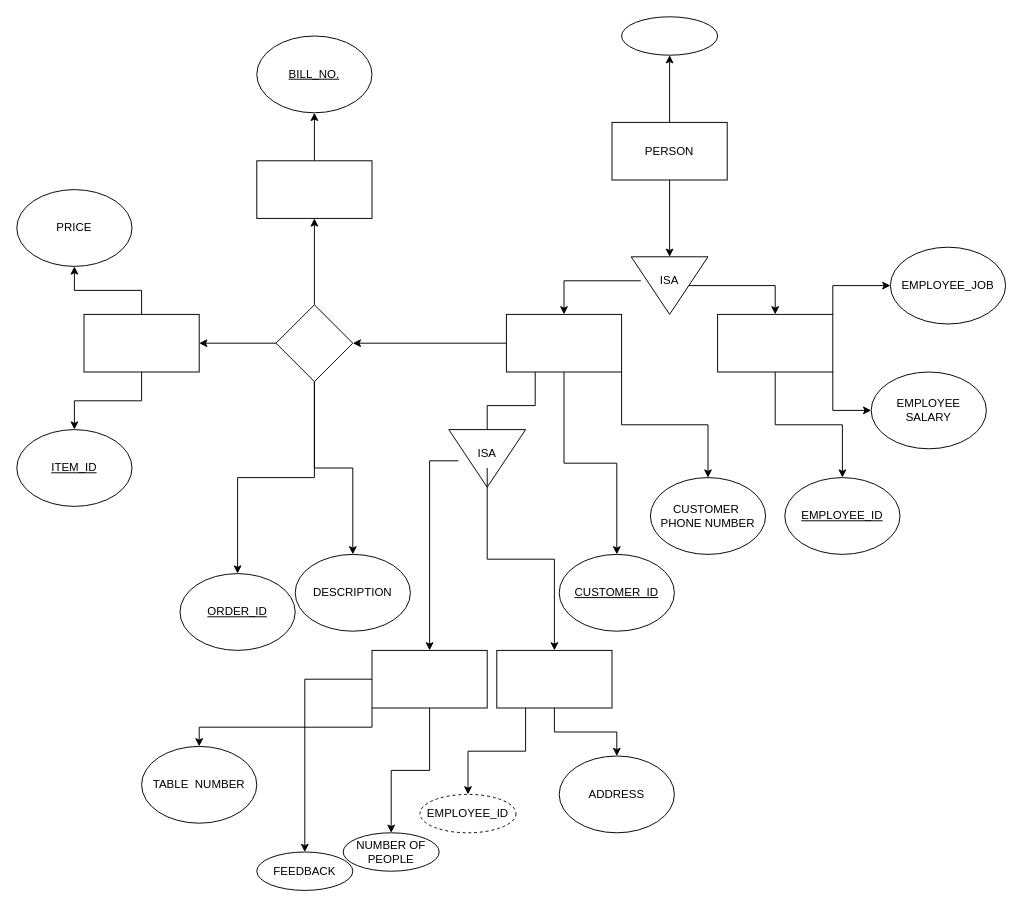
Image size: 1022x907. Some labels were removed from this diagram. The shapes that lost their labels are listed below. From the top down, each one's centre as x and y in pixels, then its label:
At point 669,35: "NAME".
At point 314,189: "BILL".
At point 141,342: "MENU_ITEM".
At point 314,343: "ORDERS".
At point 563,342: "CUSTOMER".
At point 775,342: "EMPLOYEE".
At point 429,678: "DINE IN".
At point 554,678: "DELIVERY".
